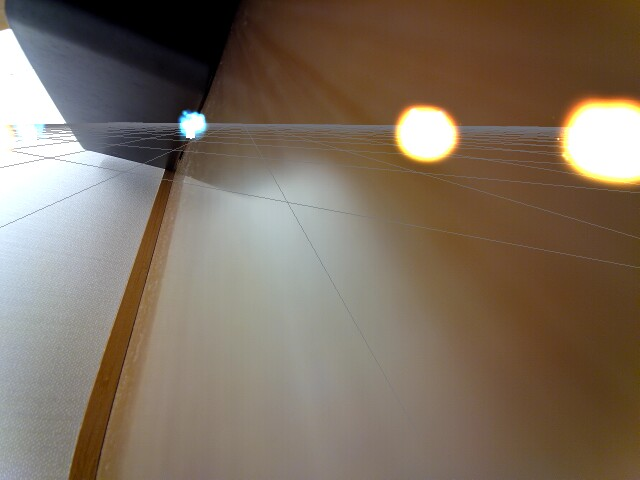firebig: (548, 80, 640, 203)
